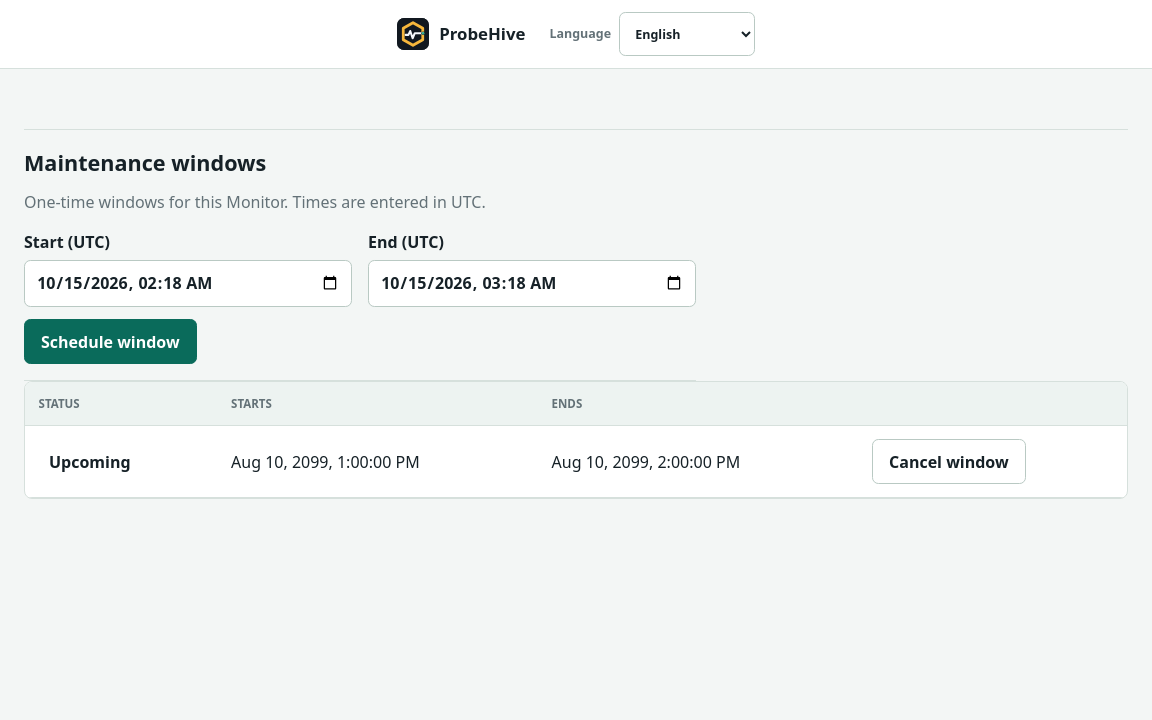
Test: lists and cancels an upcoming maintenance window
Expected: the text "Upcoming" is shown, 49,450 -> 131,472
Click the button "Cancel window": (949, 462) 872,439 -> 1026,484
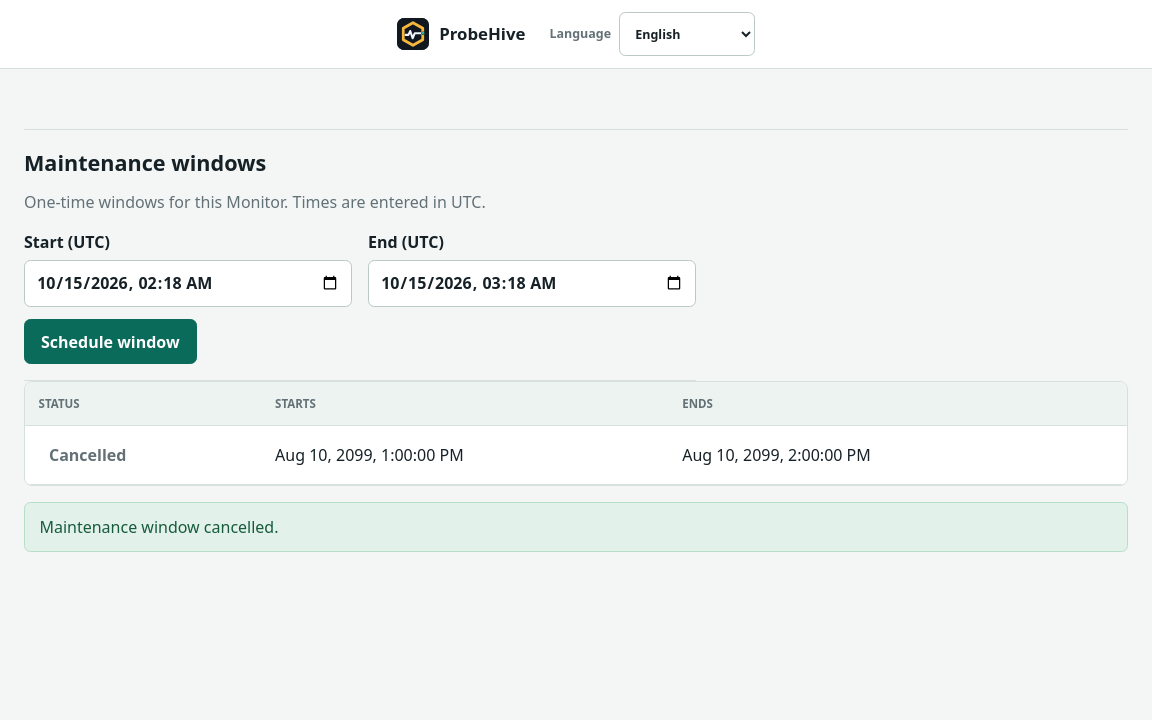
Expected: the text "Cancelled" is shown, 49,444 -> 126,466
Expected: the text "Maintenance window cancelled." is shown, 24,502 -> 1128,552
